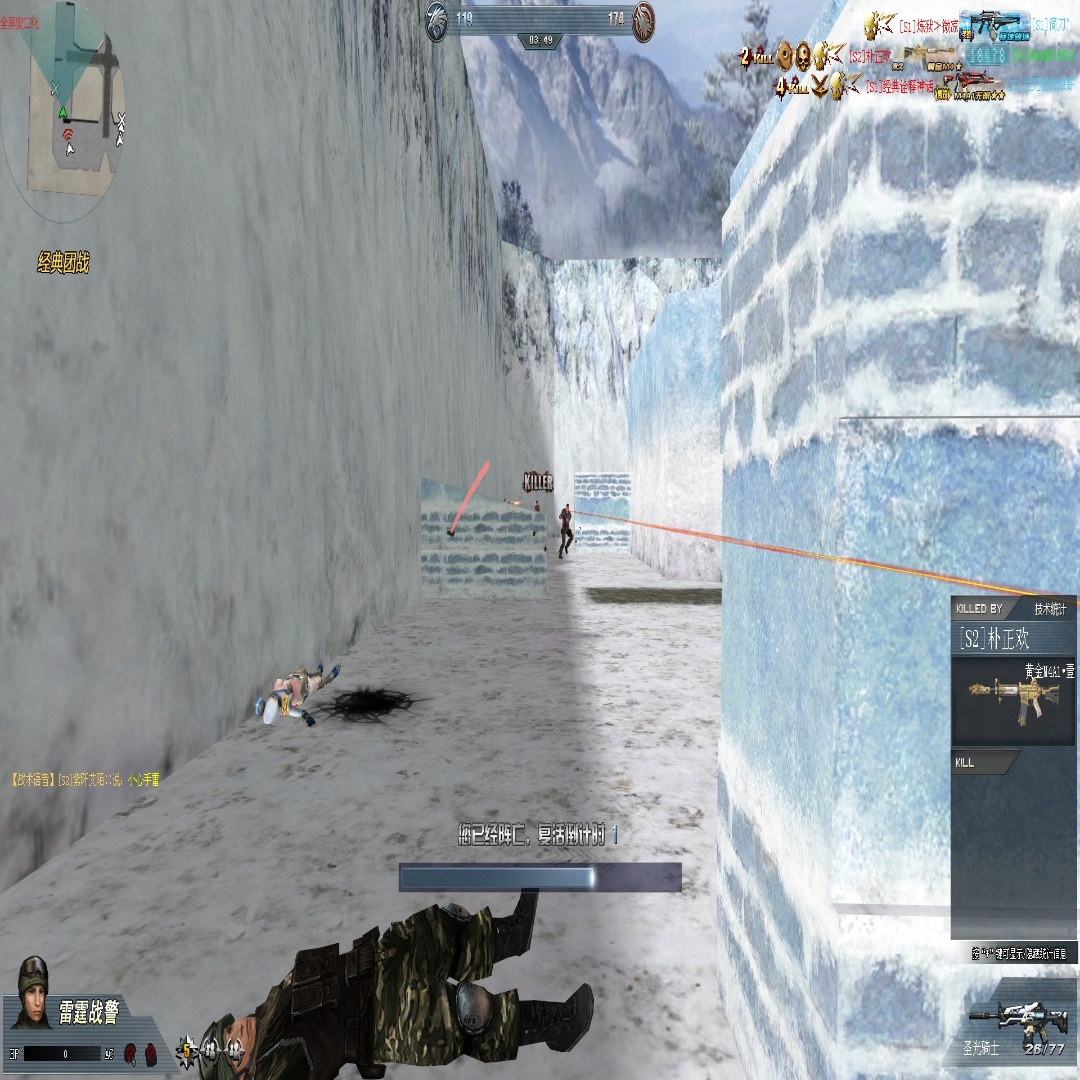t: (559, 504, 572, 560)
